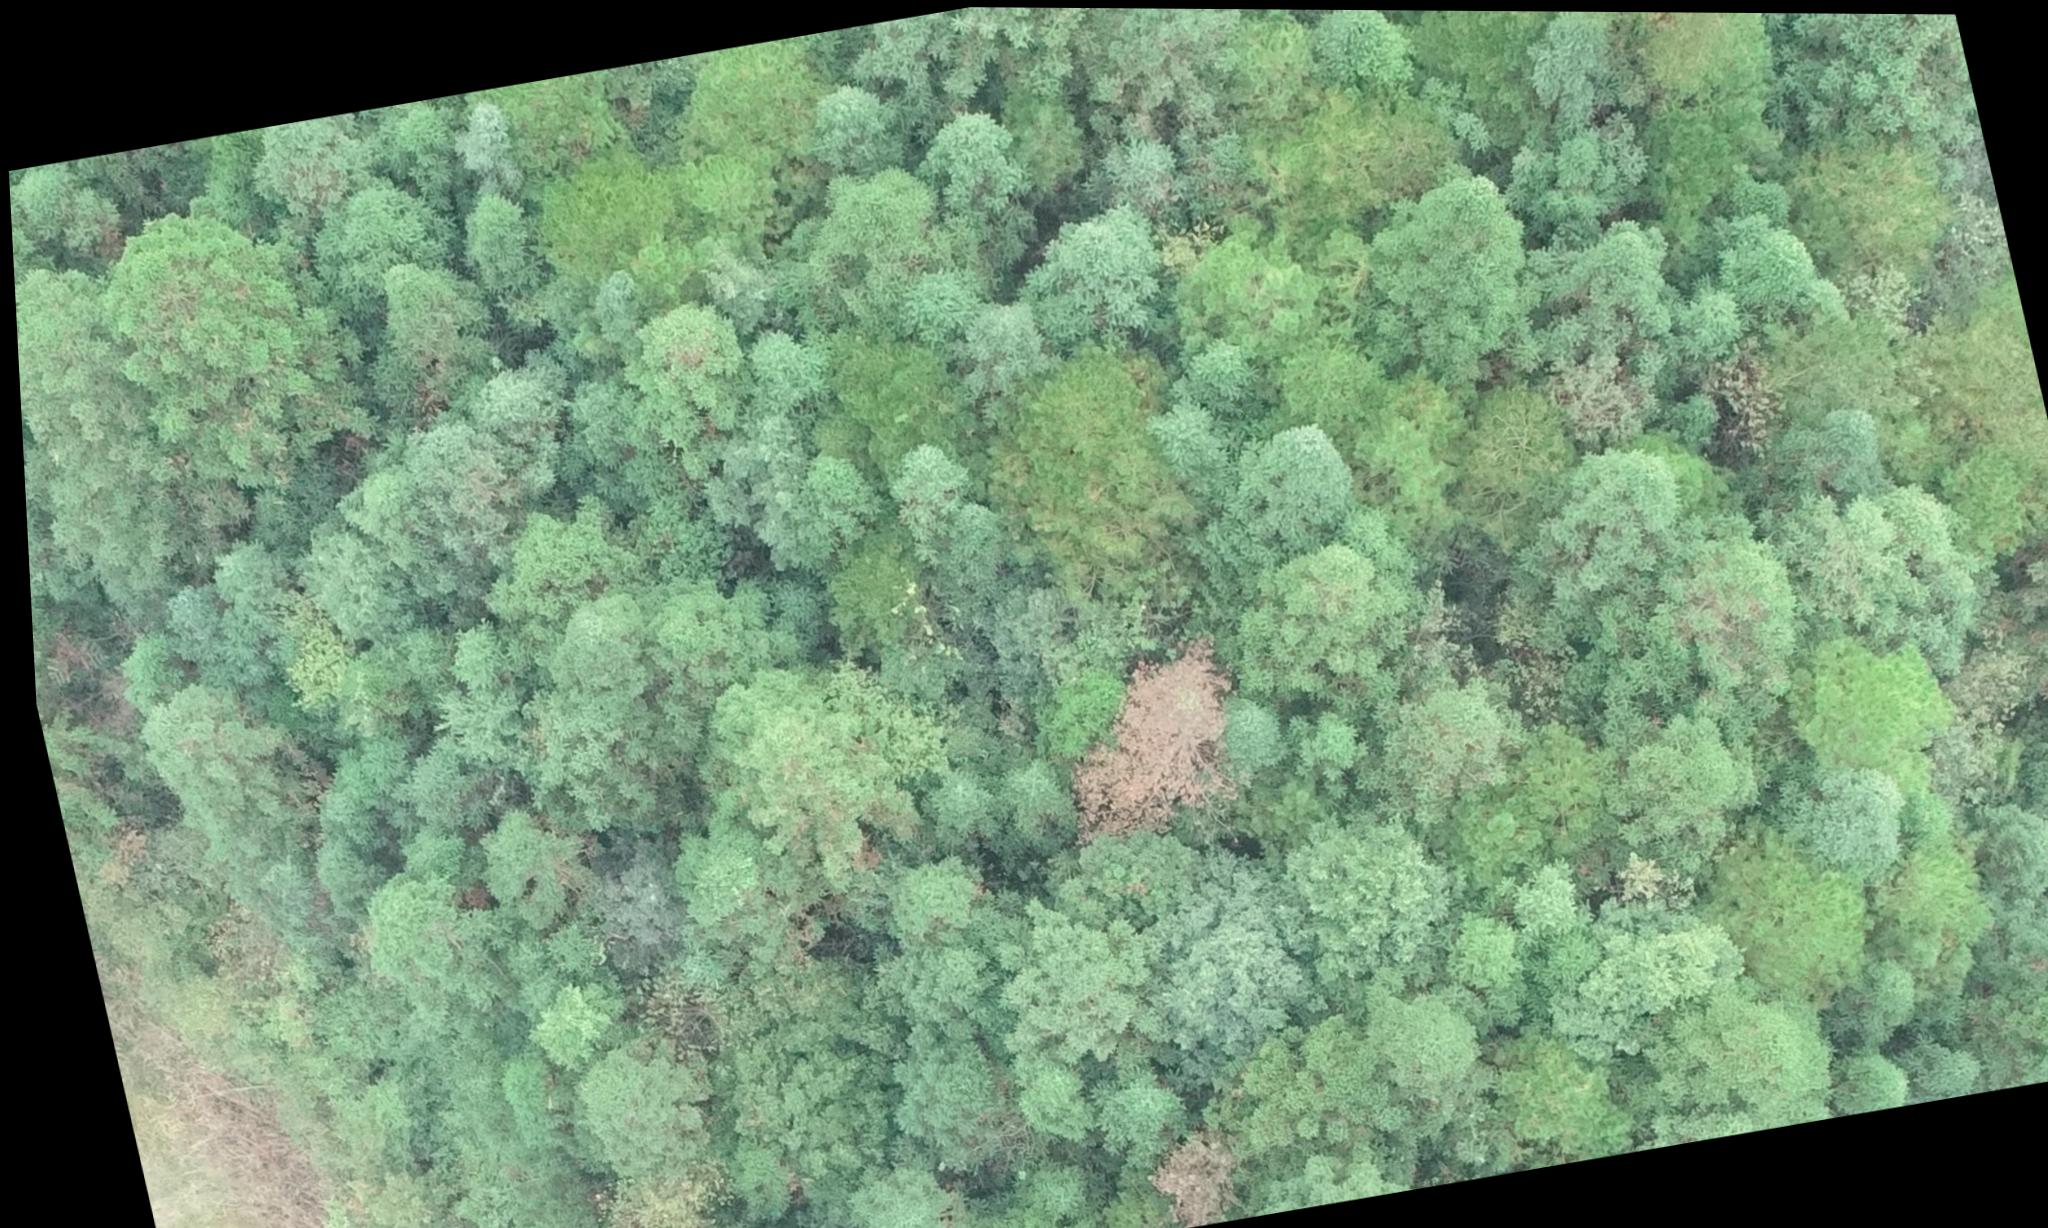heavy: (1034, 624, 1270, 860), (1133, 1124, 1229, 1221)
